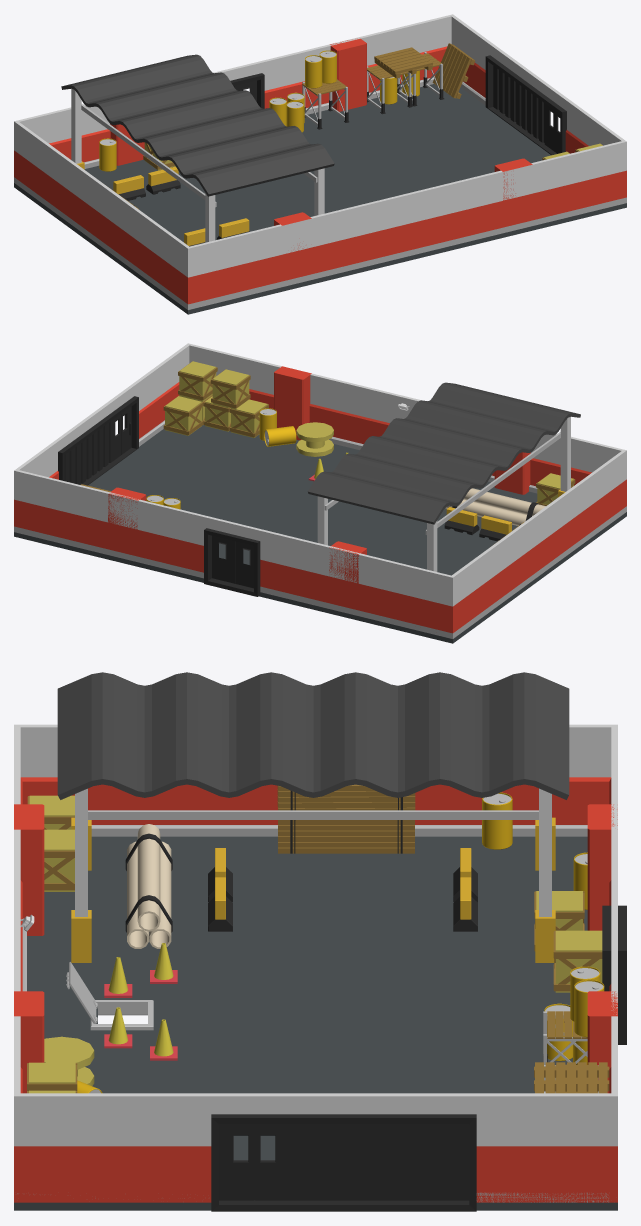
Rendered from Top.fbx.
The picture shows the model from 3 angles, top to bottom: view 1: azimuth 30°, elevation 25°; view 2: azimuth 150°, elevation 25°; view 3: azimuth 270°, elevation 25°; orthographic projection. The views are drawn at different scales.
Parts seen in each view (by area): view 1: Cubo.034, Cubo.031, Plano.001, Cubo.029, Cubo.028, Cubo.050, Cubo.051, Portao, Cubo.041, Cubo.056, Cubo.058, Cubo.059 (+13 smaller); view 2: Cubo.034, Cubo.028, Plano.001, Cubo.029, Cubo.031, Cubo.041, Cubo.050, Cubo.051, Portao, Porta, Cubo.056, Canos_Amarrados (+13 smaller); view 3: Cubo.034, Plano.001, Cubo.050, Portao, Cubo.029, Cubo.015, Cubo.041, Cubo.056, Canos_Amarrados, Madeiras, Cubo.046, Cubo.051 (+20 smaller).
Boxes of the visible parts, <box> form: Cubo.034: <box>14,84,626,314</box>; Cubo.031: <box>185,141,623,304</box>; Plano.001: <box>61,54,334,196</box>; Cubo.029: <box>14,120,192,303</box>; Cubo.028: <box>14,14,454,178</box>; Cubo.050: <box>451,15,626,197</box>; Cubo.051: <box>14,77,626,309</box>; Portao: <box>485,55,566,155</box>; Cubo.041: <box>110,38,532,280</box>; Cubo.056: <box>71,89,324,242</box>; Cubo.058: <box>432,43,475,98</box>; Cubo.059: <box>374,47,432,78</box>; Cubo.034: <box>14,425,626,643</box>; Cubo.028: <box>14,469,455,633</box>; Plano.001: <box>307,382,580,524</box>; Cubo.029: <box>448,449,626,631</box>; Cubo.031: <box>189,344,626,507</box>; Cubo.041: <box>108,366,530,610</box>; Cubo.050: <box>14,343,190,527</box>; Cubo.051: <box>14,420,626,638</box>; Portao: <box>58,396,138,485</box>; Porta: <box>204,528,260,596</box>; Cubo.056: <box>317,417,570,571</box>; Canos_Amarrados: <box>445,488,545,525</box>; Cubo.034: <box>14,836,617,1210</box>; Plano.001: <box>57,672,569,799</box>; Cubo.050: <box>14,1093,617,1202</box>; Portao: <box>211,1114,476,1211</box>; Cubo.029: <box>15,724,617,824</box>; Cubo.015: <box>91,971,265,1062</box>; Cubo.041: <box>14,804,617,1093</box>; Cubo.056: <box>71,788,555,962</box>; Canos_Amarrados: <box>125,824,172,948</box>; Madeiras: <box>278,820,414,853</box>; Cubo.046: <box>88,810,538,819</box>; Cubo.051: <box>17,825,608,1202</box>.
Size of the model in its own units: 2041 by 499 by 1409.
